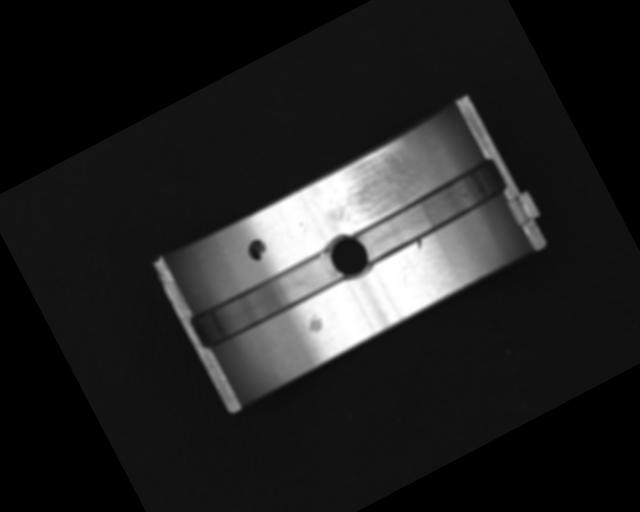blot: (242, 234, 271, 263)
bruise: (302, 311, 327, 337), (414, 238, 425, 251)
gap: (348, 156, 512, 269), (188, 244, 346, 352)
hole: (320, 227, 376, 286)
scratch: (309, 139, 427, 239)
